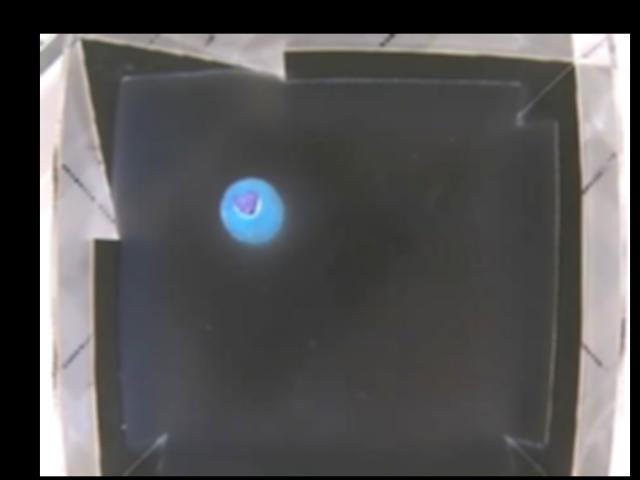Carrot: (221, 176, 284, 243)
